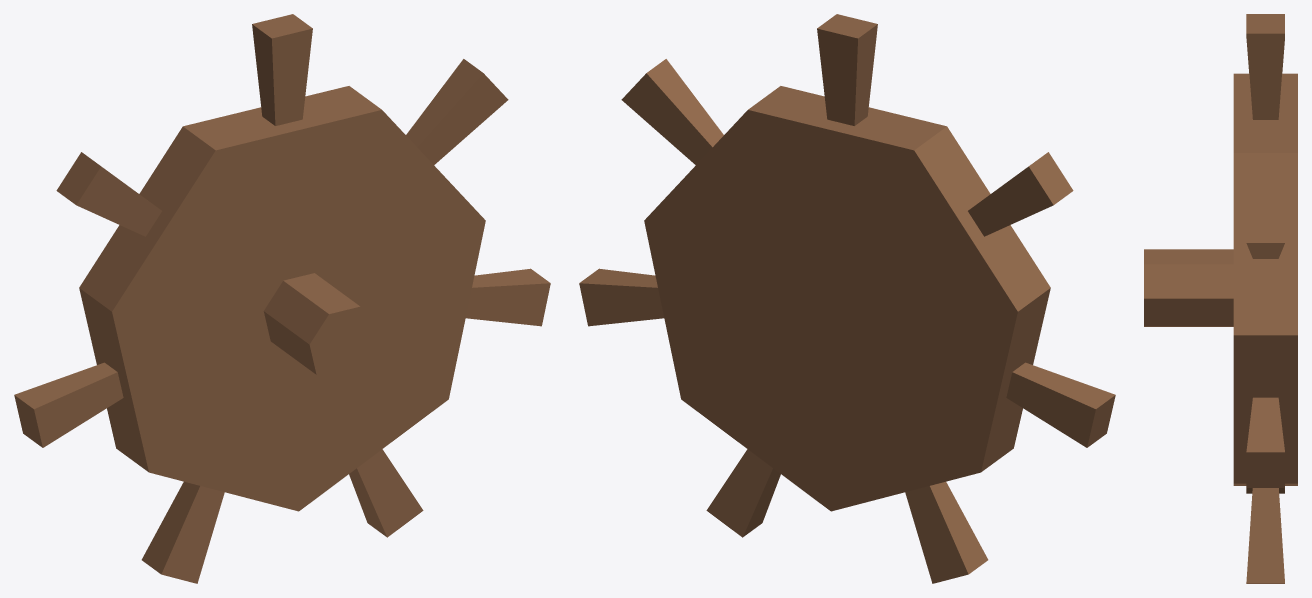
Rendered from leme.fbx.
3 renders of one model, left to right at view 1: azimuth 30°, elevation 25°; view 2: azimuth 150°, elevation 25°; view 3: azimuth 270°, elevation 25°, orthographic. The views are drawn at different scales.
Visible parts, largest first — view 1: Rudder; view 2: Rudder; view 3: Rudder.
Boxes of the visible parts, x1,y1,x2,y2 form: Rudder: [14, 14, 550, 583]; Rudder: [579, 14, 1115, 583]; Rudder: [1144, 14, 1297, 583].
Bounding box in the file's own units: 79.17 × 77.18 × 20.89.
